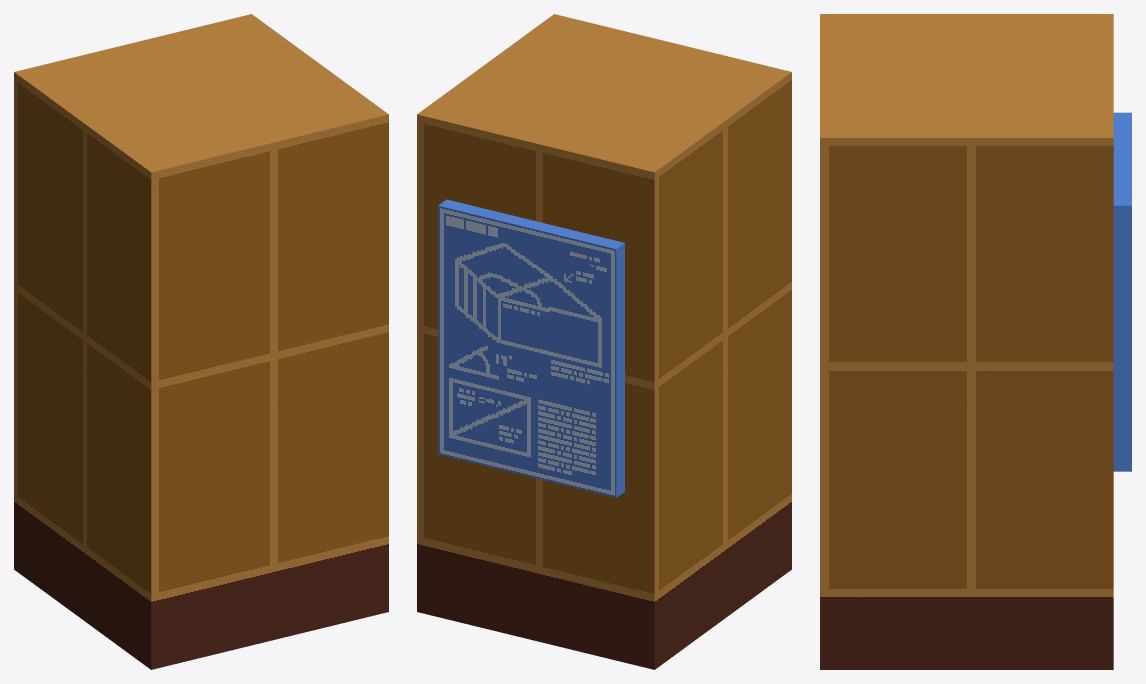
File: BuildWall2.glb
3 renders of one model, left to right at view 1: azimuth 30°, elevation 25°; view 2: azimuth 150°, elevation 25°; view 3: azimuth 270°, elevation 25°, orthographic. The views are drawn at different scales.
Visible parts, largest first — view 1: cuboid; view 2: cuboid; view 3: cuboid.
Part boxes in pixels (x1,y1,x2,y2): cuboid: (14,14,388,669); cuboid: (417,14,791,669); cuboid: (820,14,1131,669).
Size of the model in its own units: 2 by 4 by 2.12.
Materials: 1 (1 with a texture image).
